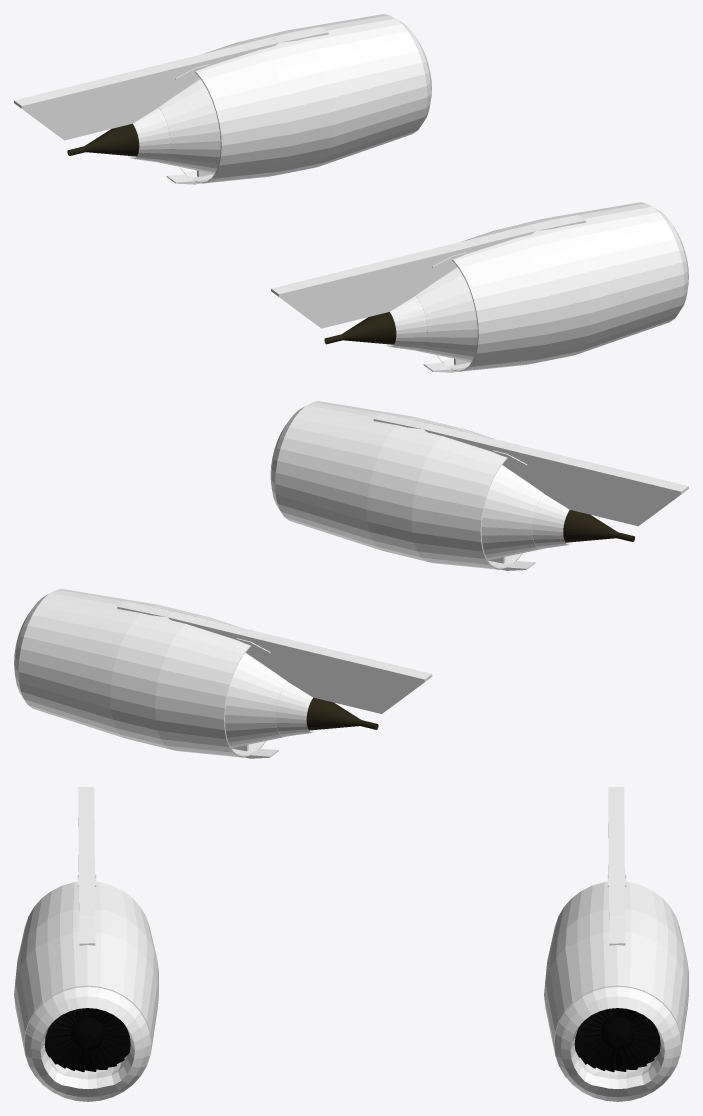
3 views of the same model, one above another, from view 1: azimuth 30°, elevation 25°; view 2: azimuth 150°, elevation 25°; view 3: azimuth 270°, elevation 25° (orthographic). The views are drawn at different scales.
Visible parts, largest first — view 1: 立方体, 立方体.001, 円柱.004, 円柱.002, 円柱.003, 円柱.001; view 2: 立方体, 立方体.001, 円柱.004, 円柱.002, 円柱.003, 円柱.001; view 3: 立方体, 立方体.001, 円柱.003, 円柱.001, 円柱.005, 円柱.007.
Part boxes in pixels (left/top/right/bottom): 立方体: left=14, top=14, right=426, bottom=184; 立方体.001: left=271, top=202, right=683, bottom=372; 円柱.004: left=67, top=79, right=220, bottom=173; 円柱.002: left=324, top=267, right=477, bottom=362; 円柱.003: left=395, top=18, right=431, bottom=132; 円柱.001: left=652, top=206, right=688, bottom=319; 立方体: left=19, top=589, right=432, bottom=758; 立方体.001: left=275, top=401, right=688, bottom=570; 円柱.004: left=225, top=653, right=378, bottom=747; 円柱.002: left=481, top=465, right=634, bottom=560; 円柱.003: left=14, top=593, right=49, bottom=704; 円柱.001: left=270, top=406, right=305, bottom=515; 立方体: left=544, top=787, right=688, bottom=1084; 立方体.001: left=14, top=787, right=158, bottom=1084; 円柱.003: left=554, top=986, right=680, bottom=1101; 円柱.001: left=24, top=986, right=150, bottom=1101; 円柱.005: left=44, top=1008, right=130, bottom=1072; 円柱.007: left=574, top=1008, right=660, bottom=1072.
Size of the model in its own units: 8.23 by 2.57 by 11.91.
